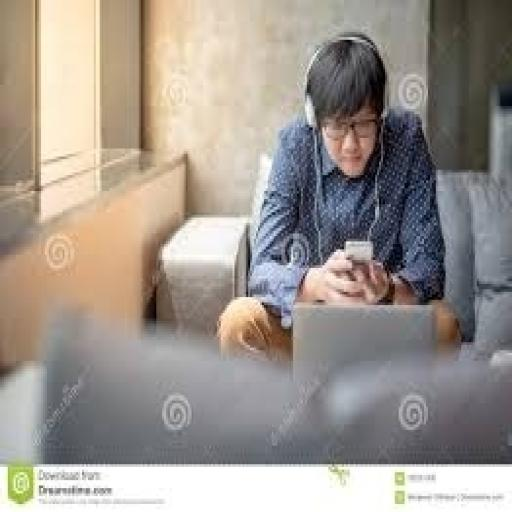texting: (215, 29, 449, 364)
